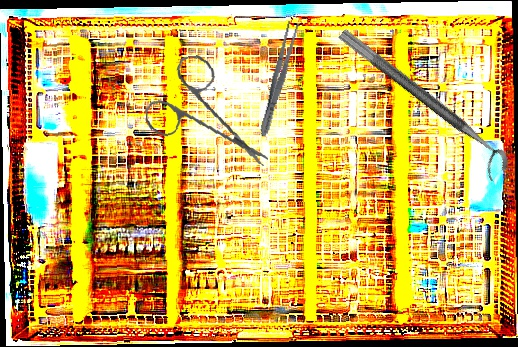Dressing Forceps: (255, 20, 302, 138)
Fixation Ring: (327, 27, 514, 184)
Iris Scissors: (139, 48, 269, 180)
